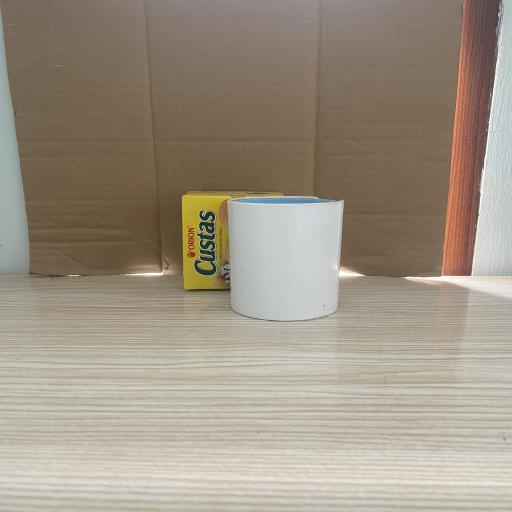custas: (182, 191, 285, 290)
